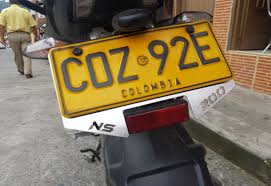number plate: (49, 21, 231, 117)
